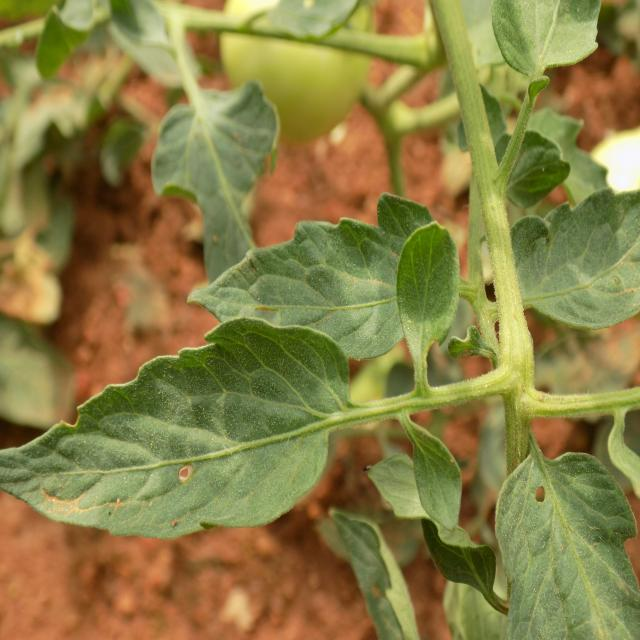tomato_healthy: (1, 318, 352, 538), (189, 219, 437, 361), (498, 452, 637, 640), (509, 193, 638, 329)
